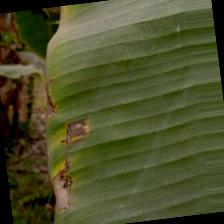cordana: (27, 0, 224, 224)
